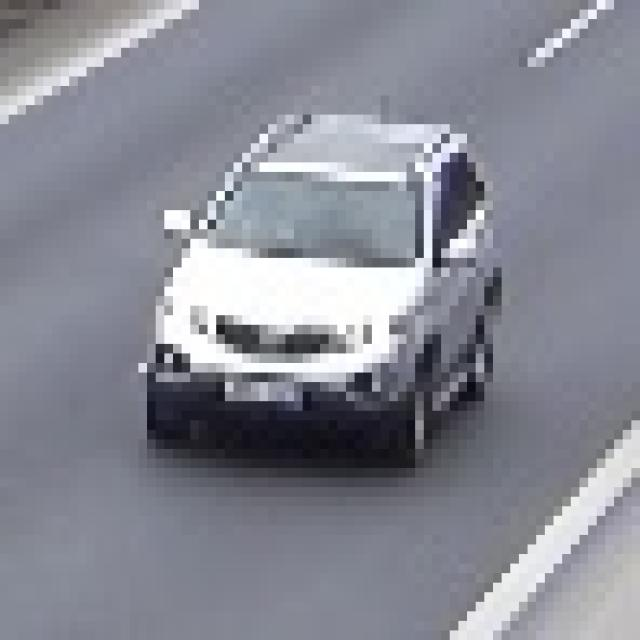SUV: (164, 124, 494, 450)
